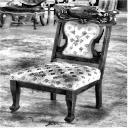chair_success: (5, 1, 119, 125)
